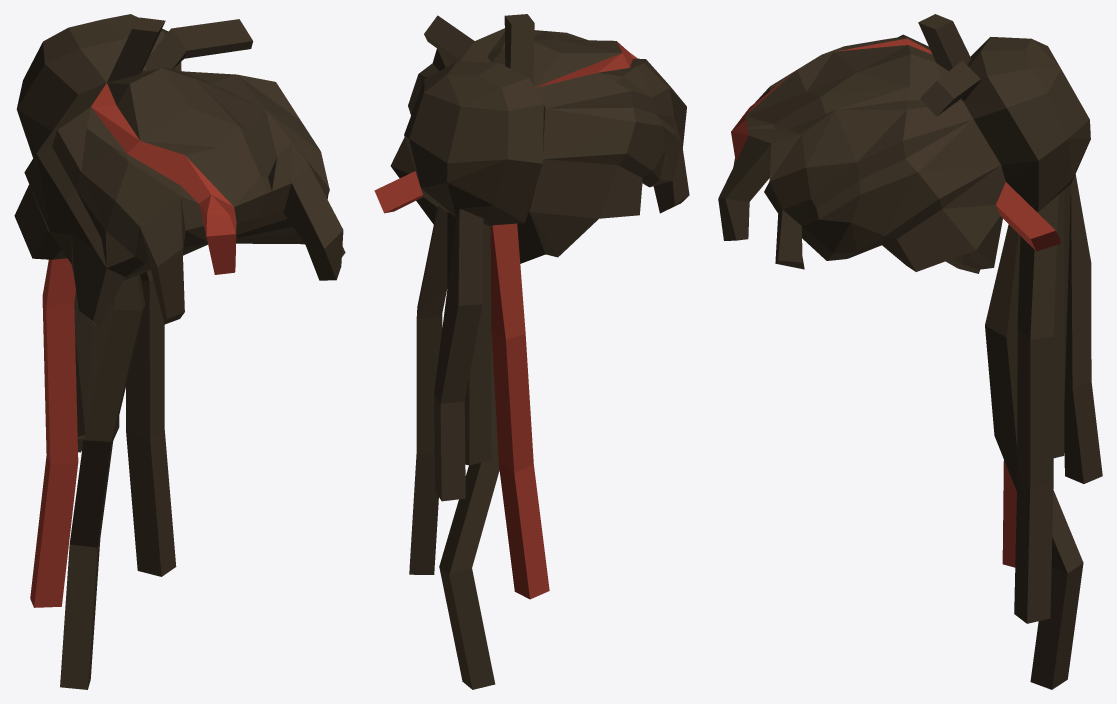
File: SM_Chr_Attach_Hair_05.fbx
3 views of the same model, side by side, from view 1: azimuth 30°, elevation 25°; view 2: azimuth 150°, elevation 25°; view 3: azimuth 270°, elevation 25° (orthographic). The views are drawn at different scales.
Visible parts, largest first — view 1: SM_Chr_Attach_Hair_05; view 2: SM_Chr_Attach_Hair_05; view 3: SM_Chr_Attach_Hair_05.
Boxes of the visible parts, x1,y1,x2,y2 form: SM_Chr_Attach_Hair_05: (14, 14, 345, 689); SM_Chr_Attach_Hair_05: (374, 14, 689, 689); SM_Chr_Attach_Hair_05: (718, 14, 1102, 689).
Bounding box in the file's own units: 27.45 × 72.09 × 37.66.
